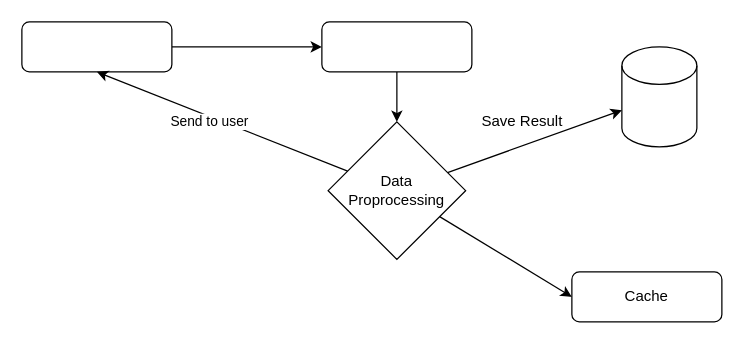
This 744x344 diagram has some shape labels left out. Here are the shapes that lost their labels. From the top down, the centre of each, then its label:
the point at 96,46: User
the point at 396,46: Verification
